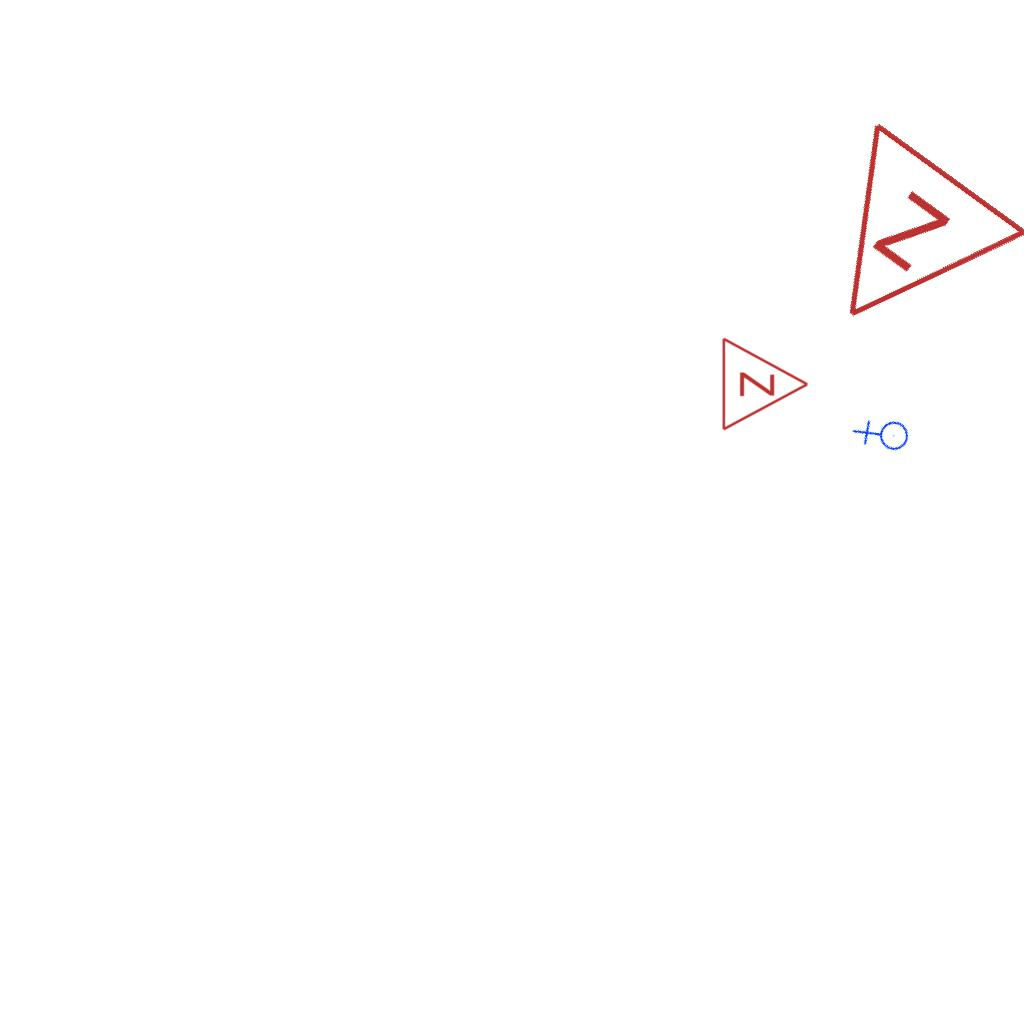Elektroanschluss_allgemein_230V_Geraeteanschlussdose_230V: (849, 402, 918, 471)
Zimmersignalleuchte: (765, 108, 1024, 386), (715, 334, 815, 432)
